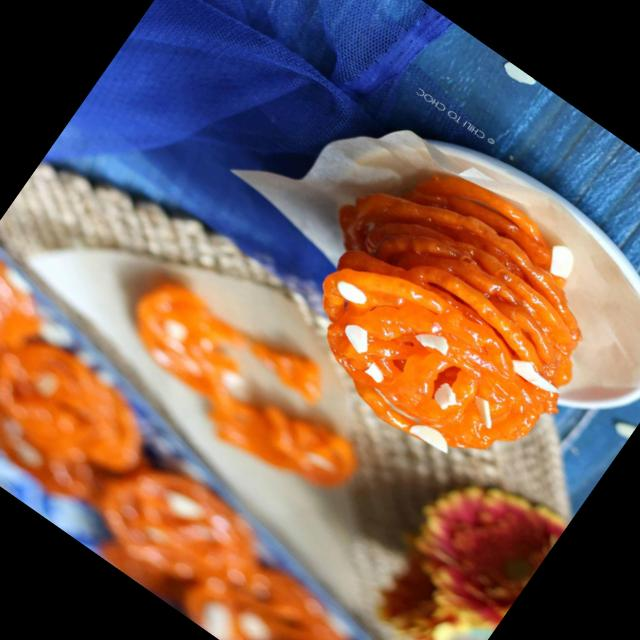jalebi: (0, 249, 490, 640), (266, 119, 638, 490), (57, 215, 398, 511)
